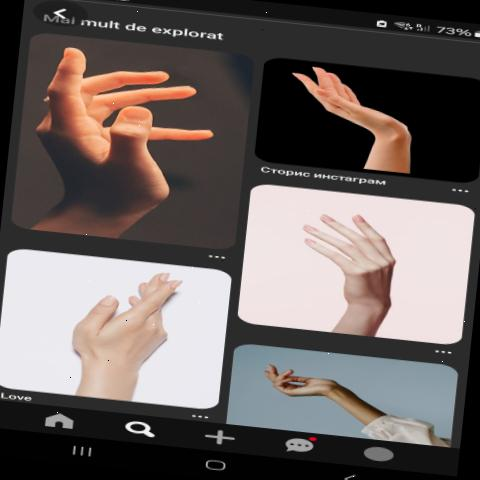hands: (18, 40, 230, 242), (50, 256, 221, 409), (289, 192, 459, 338), (273, 67, 458, 176), (258, 356, 402, 424)
